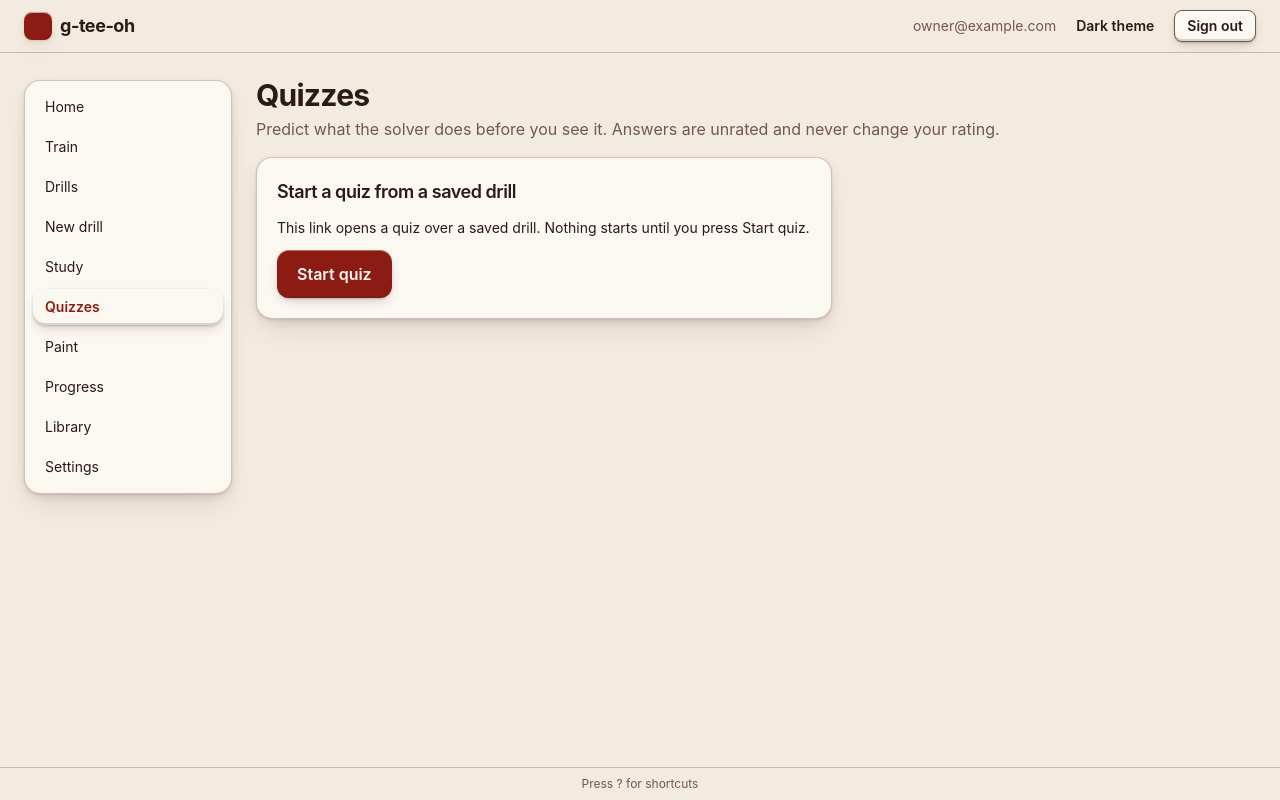
Test: R3.16 /quiz renders each answer kind › R3.16 size: only the aggressive actions
The width and height of the screenshot is (1280, 800).
Click the button "Start quiz".
click(334, 274)  # box [277,250,392,298]
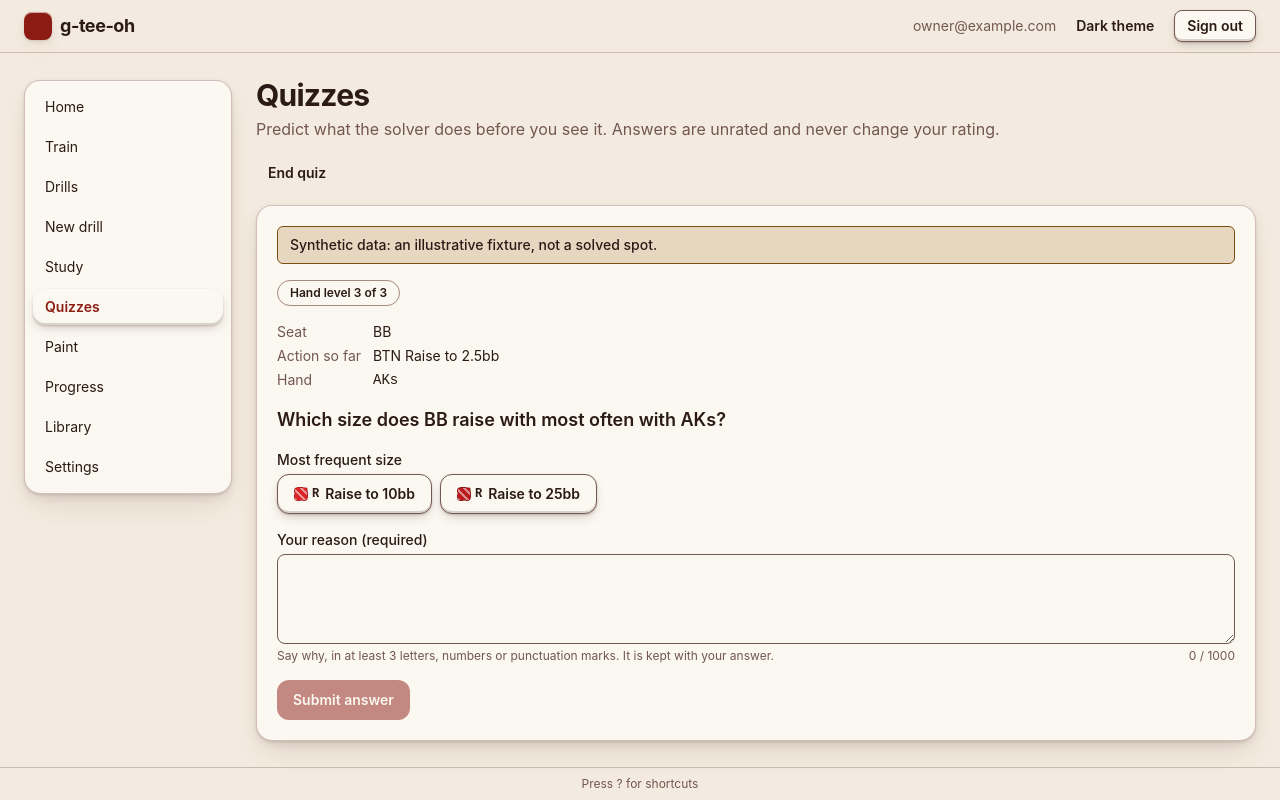
Expected: the buttons read "RRaise to 10bb", "RRaise to 25bb", in this order, [277,474,432,514]; [440,474,597,514]
